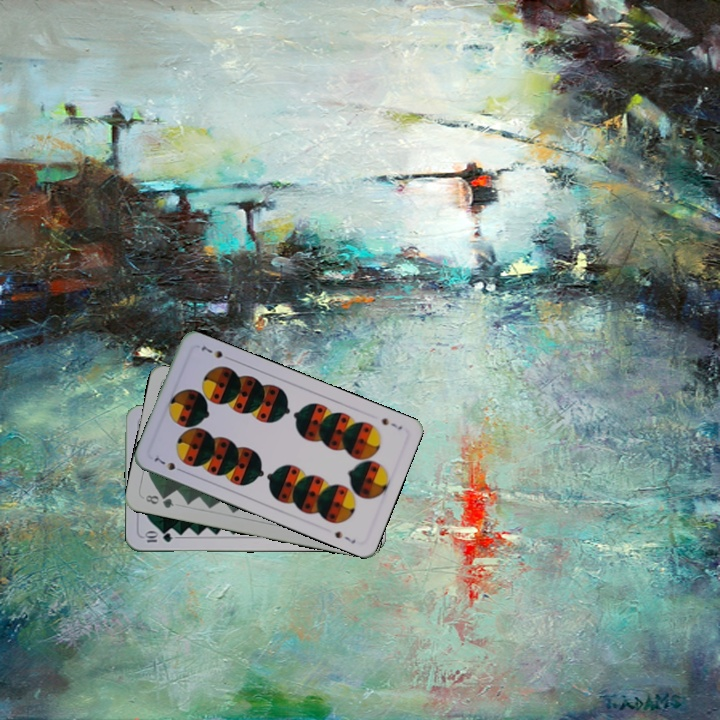G10: (140, 529, 175, 545)
G8: (141, 491, 176, 511)
S7: (150, 453, 187, 475), (378, 414, 405, 432)
